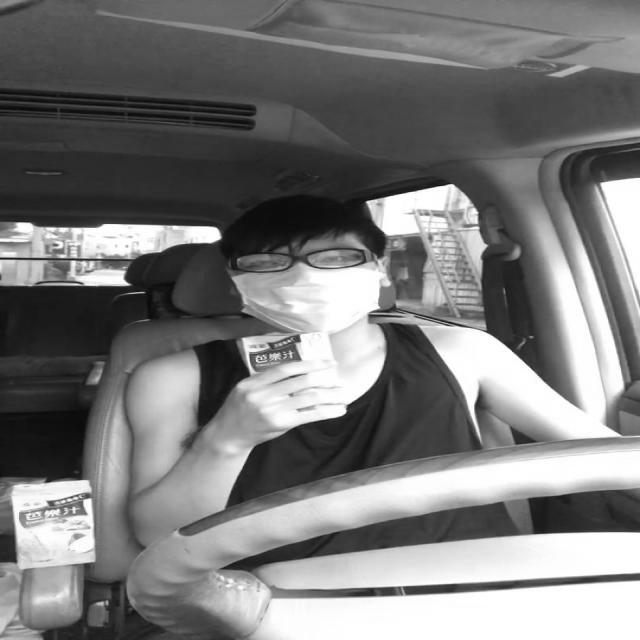Drinking: (240, 332, 335, 412)
